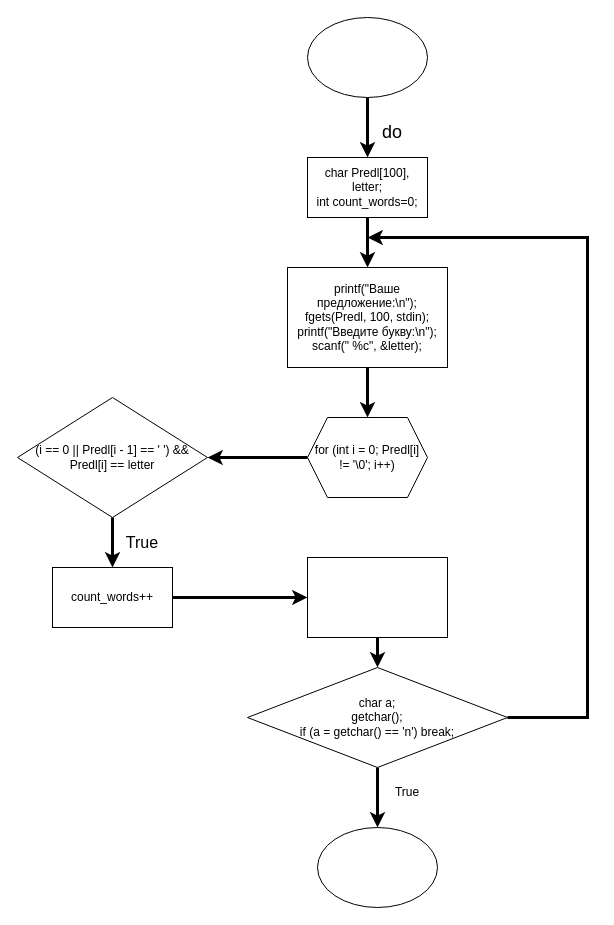
This 614x925 diagram has some shape labels left out. The shapes that lost their labels are listed below. From the top down, each one's centre as x and y in pixels, then its label:
(367,57): начало
(377,597): printf("В предложении %d слов(а), начинающихся с %c\n", count_words, letter);
(377,867): конец
